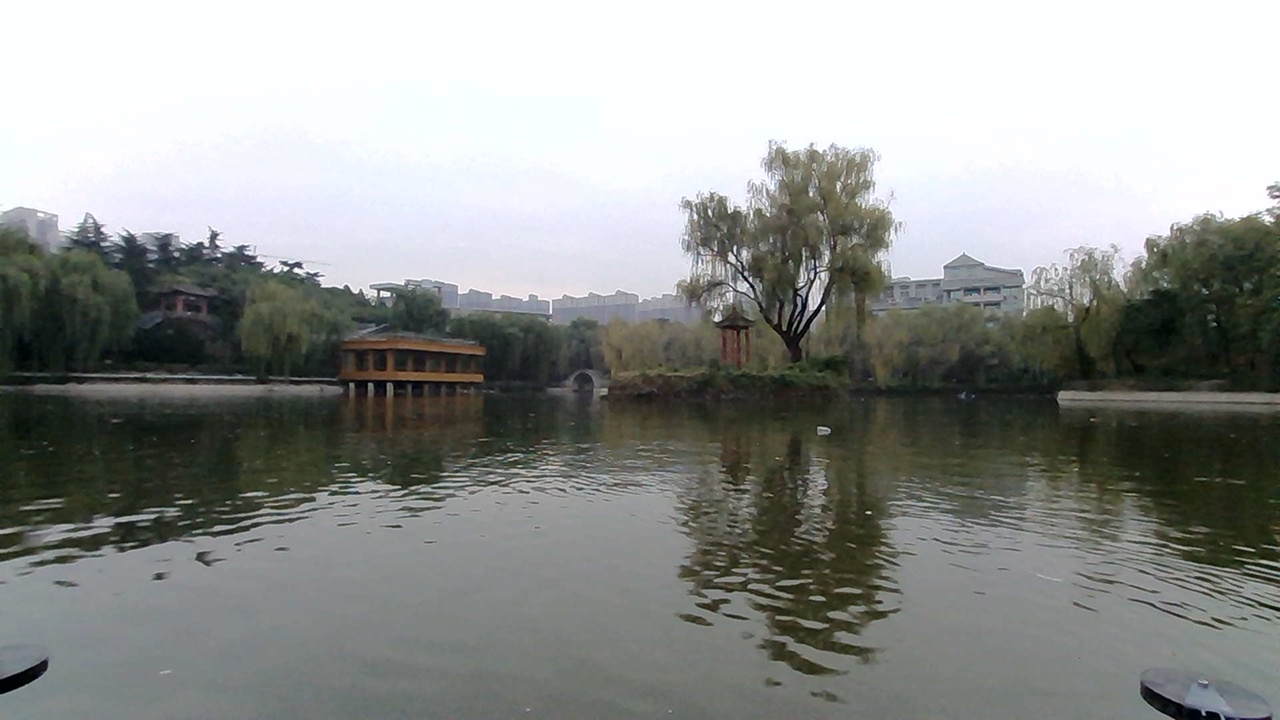bottle: (806, 413, 861, 445)
